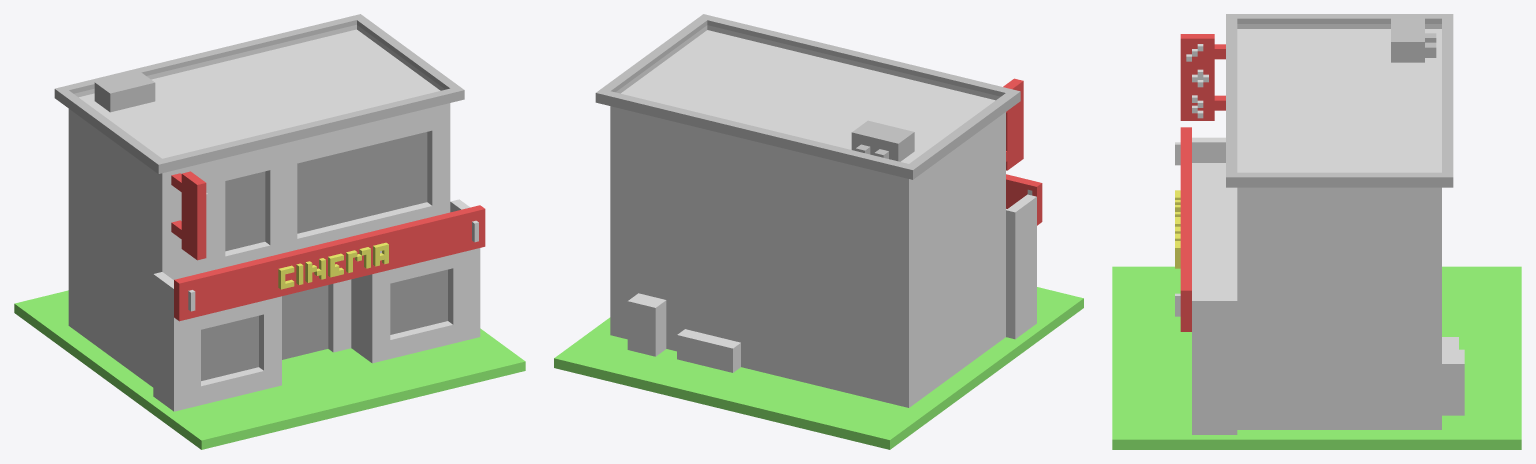
File: cinema build.obj
The picture shows the model from 3 angles, left to right: view 1: azimuth 30°, elevation 25°; view 2: azimuth 150°, elevation 25°; view 3: azimuth 270°, elevation 25°; orthographic projection. The views are drawn at different scales.
Bounding box in the file's own units: 7.2 × 5.4 × 7.2.
1 material, 1 textured.
